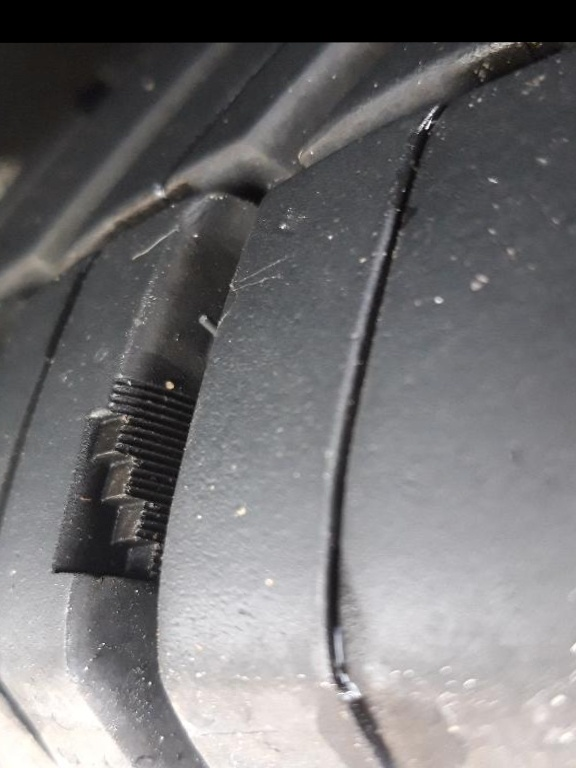temoin:90: (38, 369, 208, 595)
